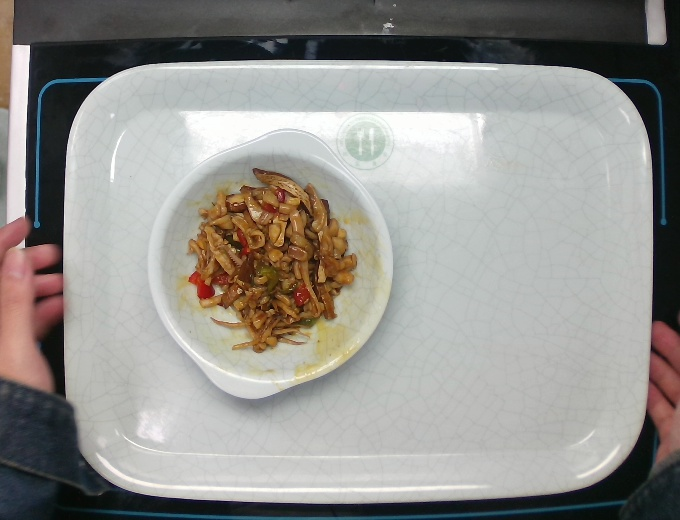JYsf-Shuang_Er_Wan: (147, 115, 399, 420)
